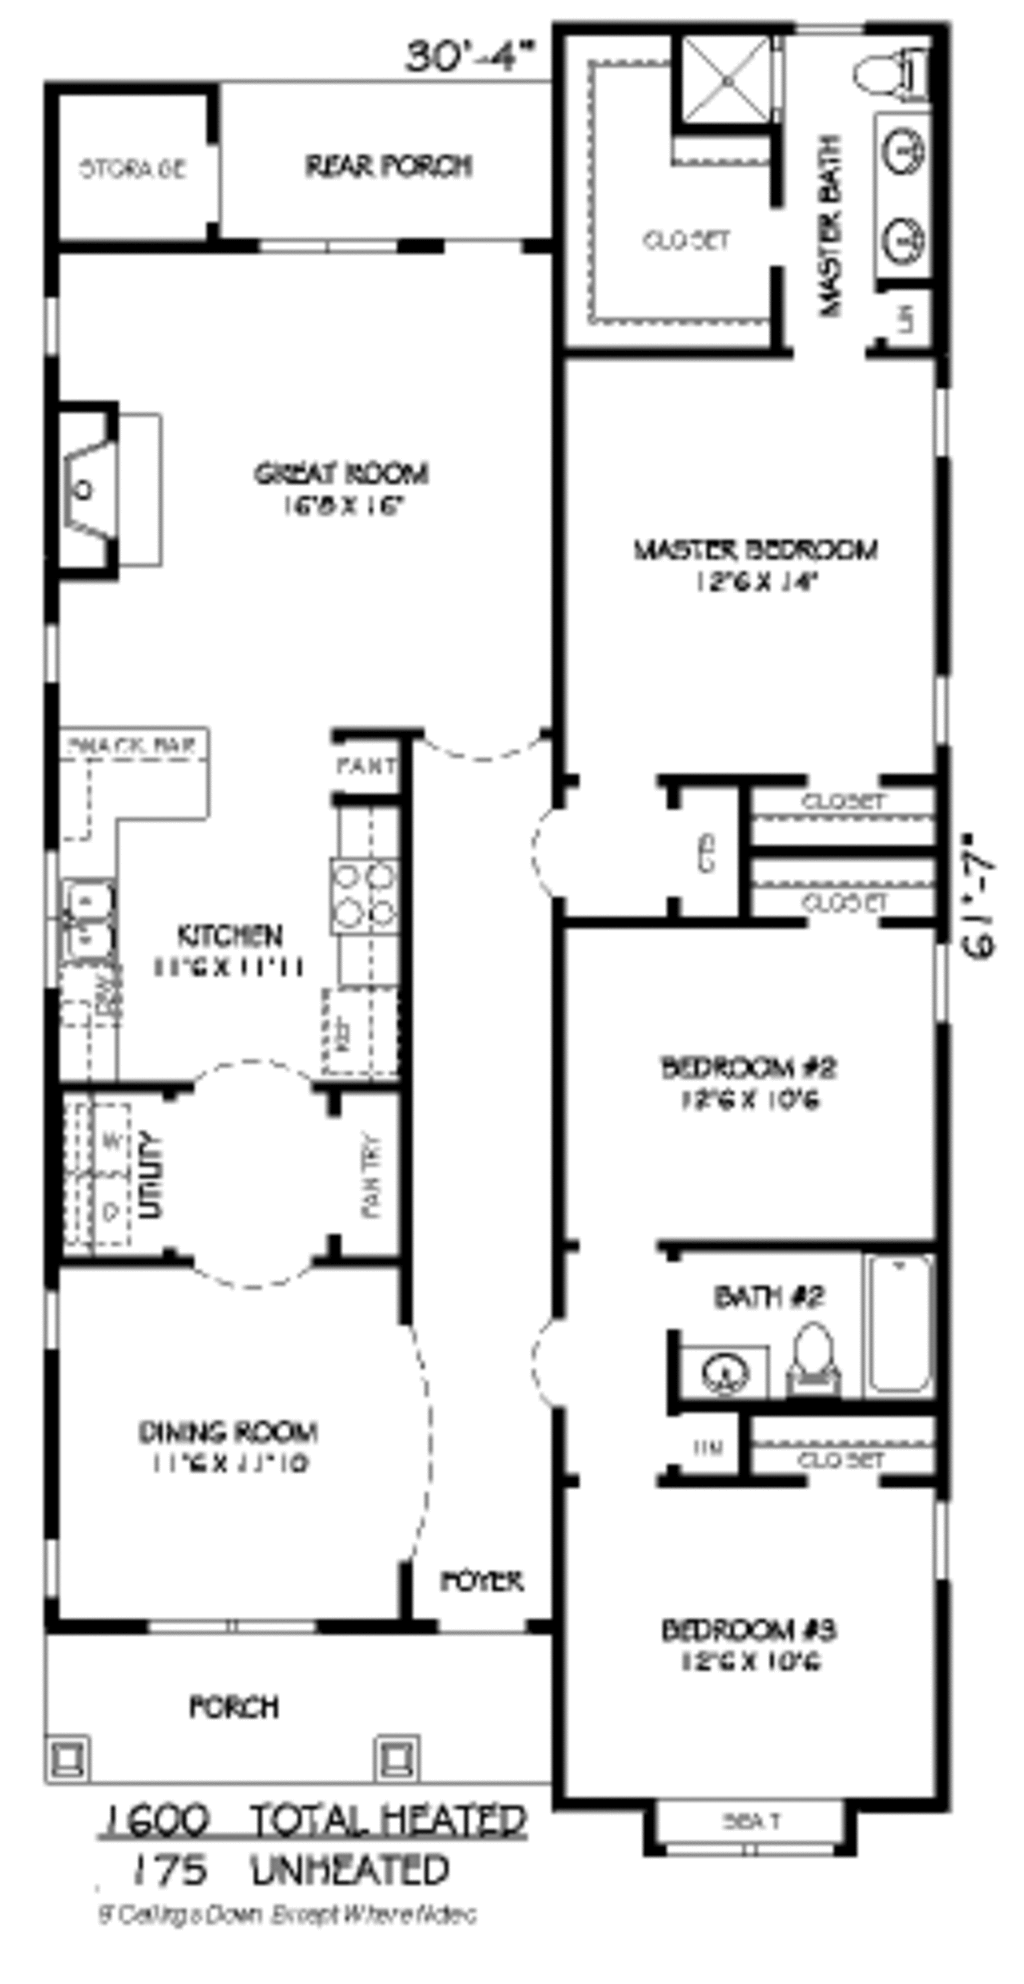large_sink: (832, 24, 926, 118), (778, 1302, 848, 1405)
small_sink: (857, 102, 944, 274), (679, 1337, 776, 1421)
tub: (857, 1249, 960, 1412)
twin_sink: (54, 880, 135, 974)
window: (657, 1823, 848, 1863), (242, 225, 415, 264), (148, 1612, 327, 1650), (920, 371, 969, 474), (29, 596, 73, 701), (916, 1486, 953, 1593), (31, 1537, 76, 1621), (35, 290, 76, 362), (933, 950, 960, 1024)
